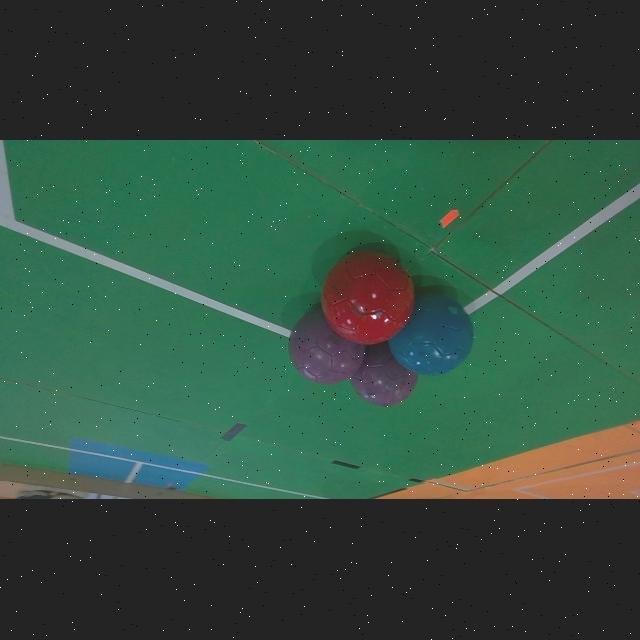B: (388, 293, 474, 376)
P: (289, 309, 365, 386), (350, 343, 417, 408)
R: (322, 251, 415, 345)
